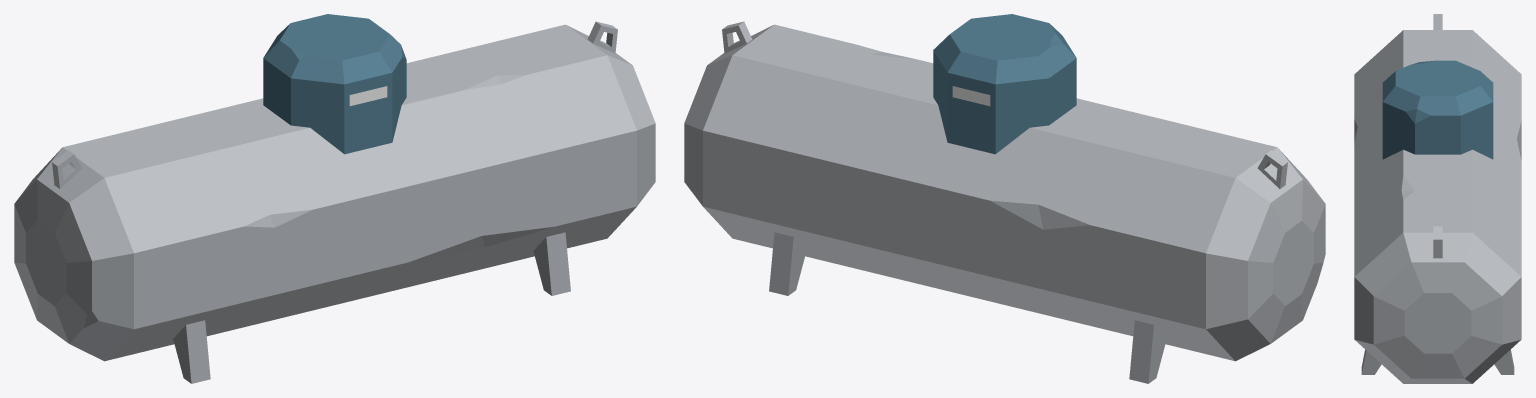
Rendered from SM_Prop_Propane_01.fbx.
3 views of the same model, side by side, from view 1: azimuth 30°, elevation 25°; view 2: azimuth 150°, elevation 25°; view 3: azimuth 270°, elevation 25° (orthographic). The views are drawn at different scales.
Visible parts, largest first — view 1: SM_Prop_Propane_01; view 2: SM_Prop_Propane_01; view 3: SM_Prop_Propane_01.
Boxes of the visible parts, x1,y1,x2,y2 form: SM_Prop_Propane_01: (14,14,655,383); SM_Prop_Propane_01: (684,14,1325,383); SM_Prop_Propane_01: (1354,14,1521,383).
Size of the model in its own units: 330 by 146 by 100.
